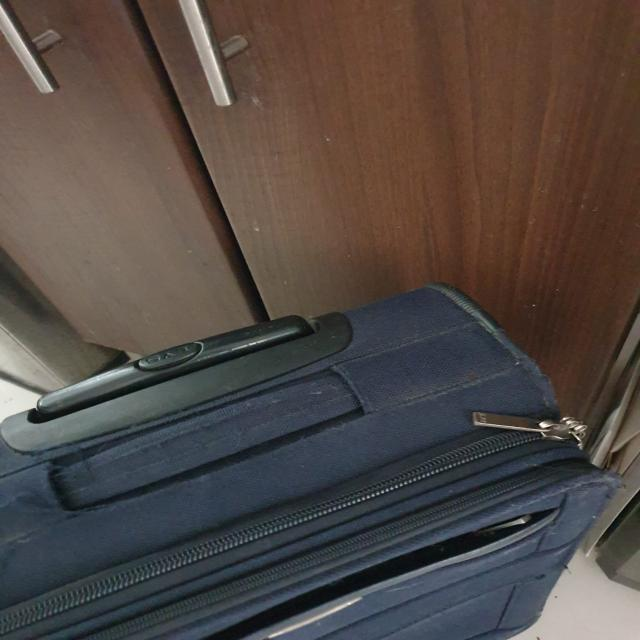Suitcase: (0, 276, 629, 640)
